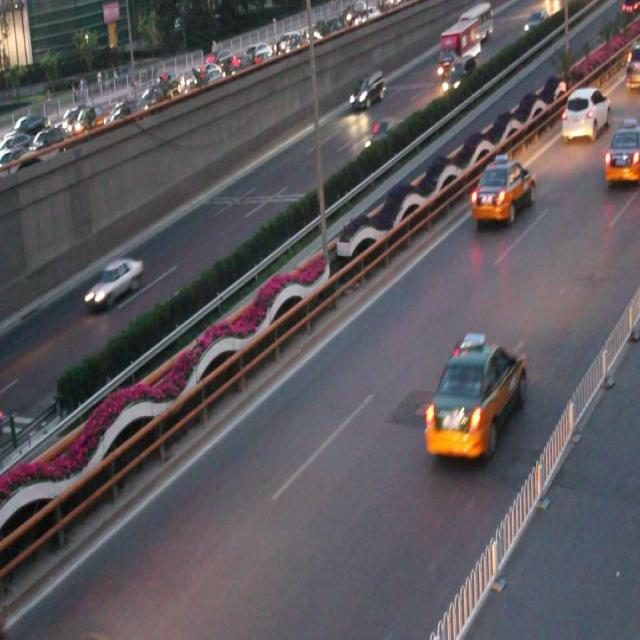car: (424, 335, 525, 460), (471, 154, 535, 224), (84, 256, 142, 308), (558, 87, 611, 142), (601, 123, 640, 185), (362, 117, 402, 153)
truck: (347, 74, 385, 112)
